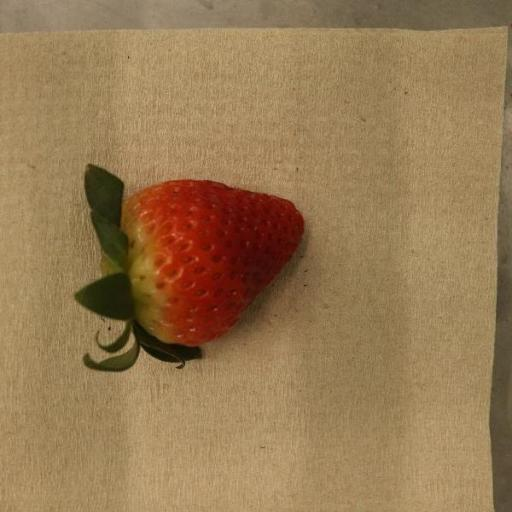Strawberry: (73, 164, 305, 369)
